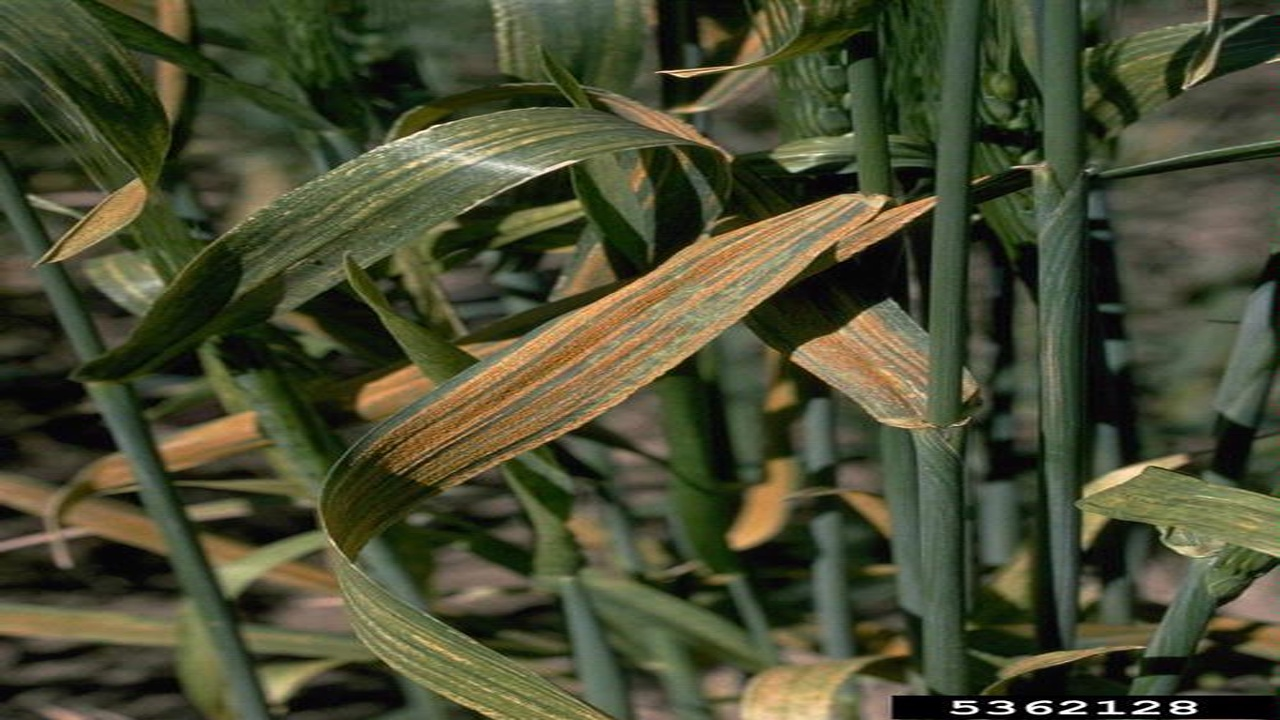stripe_rust: (338, 191, 868, 543), (338, 556, 612, 716), (738, 266, 967, 438)
